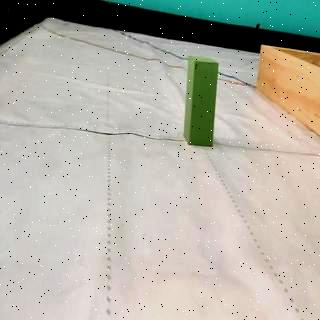greenbox: (182, 56, 220, 146)
